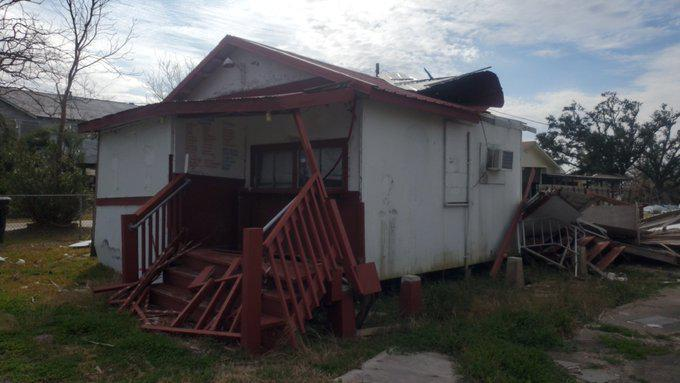destroyed: (77, 46, 667, 309)
